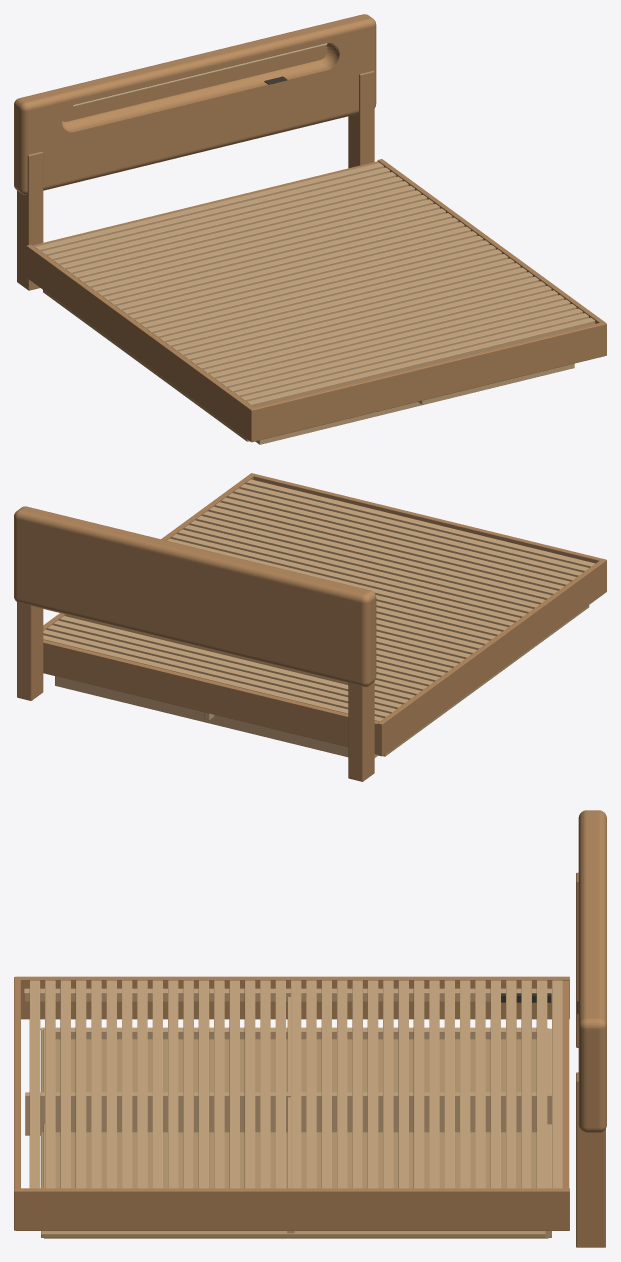
The picture shows the model from 3 angles, top to bottom: view 1: azimuth 30°, elevation 25°; view 2: azimuth 150°, elevation 25°; view 3: azimuth 270°, elevation 25°; orthographic projection. The views are drawn at different scales.
Visible parts, largest first — view 1: Rounded oak headboard, Oak footboard, Oak side rail L, Recessed shelf rear board, Pine slat 01, Wood headboard upright L, Pine slat 10, Pine slat 27, Pine slat 33, Pine slat 05, Pine slat 08, Pine slat 09 (+33 smaller); view 2: Rounded oak headboard, Oak rear frame, Oak side rail L, Inset rear structural stretcher, Wood headboard upright L, Oak footboard, Wood headboard upright R, Pine slat 04, Pine slat 05, Pine slat 01, Pine slat 10, Pine slat 13 (+28 smaller); view 3: Oak side rail R, Paulownia floor R, Paulownia floor L, Rounded oak headboard, Oak side rail L, Central storage divider, Wood headboard upright R, Pine slat bearer L, Pine slat 01, Pine slat 04, Pine slat 12, Pine slat 15 (+35 smaller).
Part boxes in pixels (x1,y1,x2,y2): Rounded oak headboard: (14, 14, 376, 194); Oak footboard: (249, 323, 606, 442); Oak side rail L: (26, 244, 253, 441); Recessed shelf rear board: (62, 45, 327, 121); Pine slat 01: (246, 317, 595, 407); Wood headboard upright L: (17, 151, 43, 290); Pine slat 10: (190, 276, 539, 365); Pine slat 27: (84, 199, 433, 287); Pine slat 33: (47, 172, 396, 260); Pine slat 05: (221, 299, 570, 387); Pine slat 08: (203, 285, 551, 374); Pine slat 09: (197, 281, 545, 369); Rounded oak headboard: (14, 506, 376, 686); Oak rear frame: (43, 639, 378, 754); Oak side rail L: (377, 560, 606, 756); Inset rear structural stretcher: (55, 676, 348, 757); Wood headboard upright L: (348, 681, 374, 781); Oak footboard: (250, 473, 606, 591); Wood headboard upright R: (17, 601, 43, 700); Pine slat 04: (227, 493, 576, 581); Pine slat 05: (221, 497, 569, 586); Pine slat 01: (246, 479, 595, 567); Pine slat 10: (190, 520, 539, 608); Pine slat 13: (171, 534, 520, 622); Oak side rail R: (15, 1188, 569, 1230); Paulownia floor R: (41, 1132, 545, 1237); Paulownia floor L: (41, 1027, 536, 1092); Rounded oak headboard: (578, 810, 606, 1132); Oak side rail L: (15, 976, 569, 1019); Central storage divider: (25, 1092, 551, 1135); Wood headboard upright R: (576, 1072, 605, 1247); Pine slat bearer L: (24, 988, 551, 1001); Pine slat 01: (29, 980, 40, 1188); Pine slat 04: (75, 980, 86, 1188); Pine slat 12: (198, 980, 209, 1188); Pine slat 15: (244, 980, 255, 1188).
Size of the model in its own units: 1.84 by 0.917 by 2.15.
